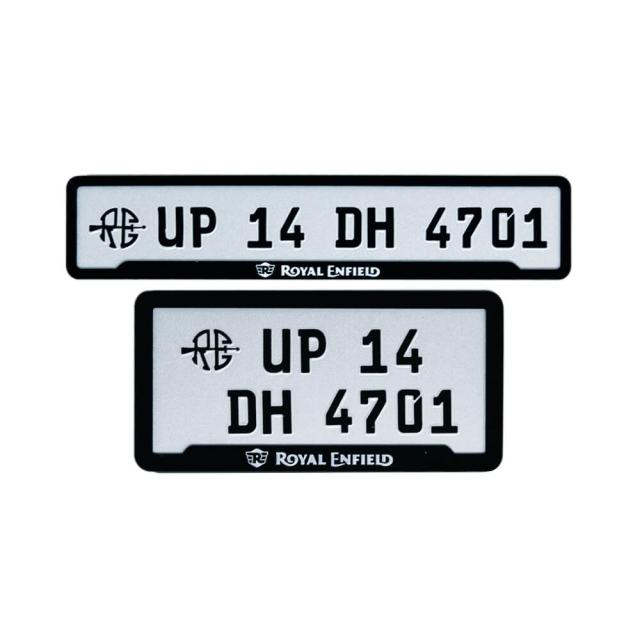plate: (140, 300, 493, 464), (70, 185, 564, 277)
